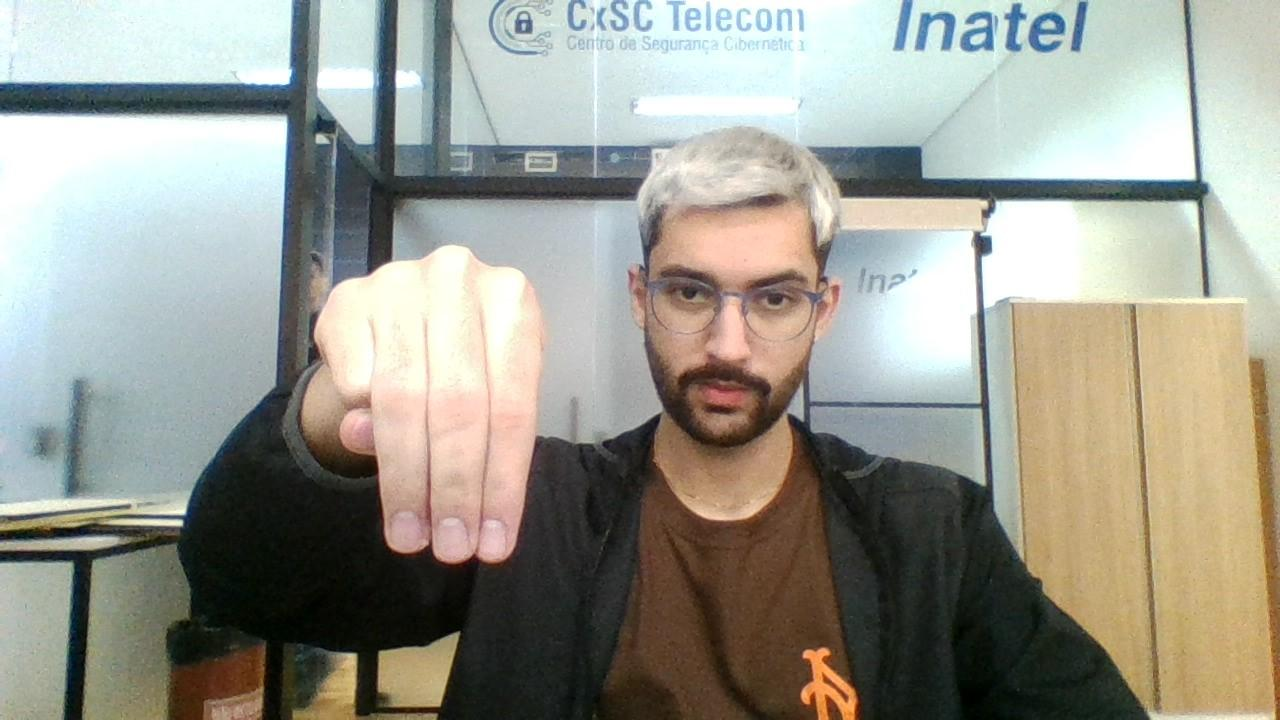M: (314, 236, 548, 576)
